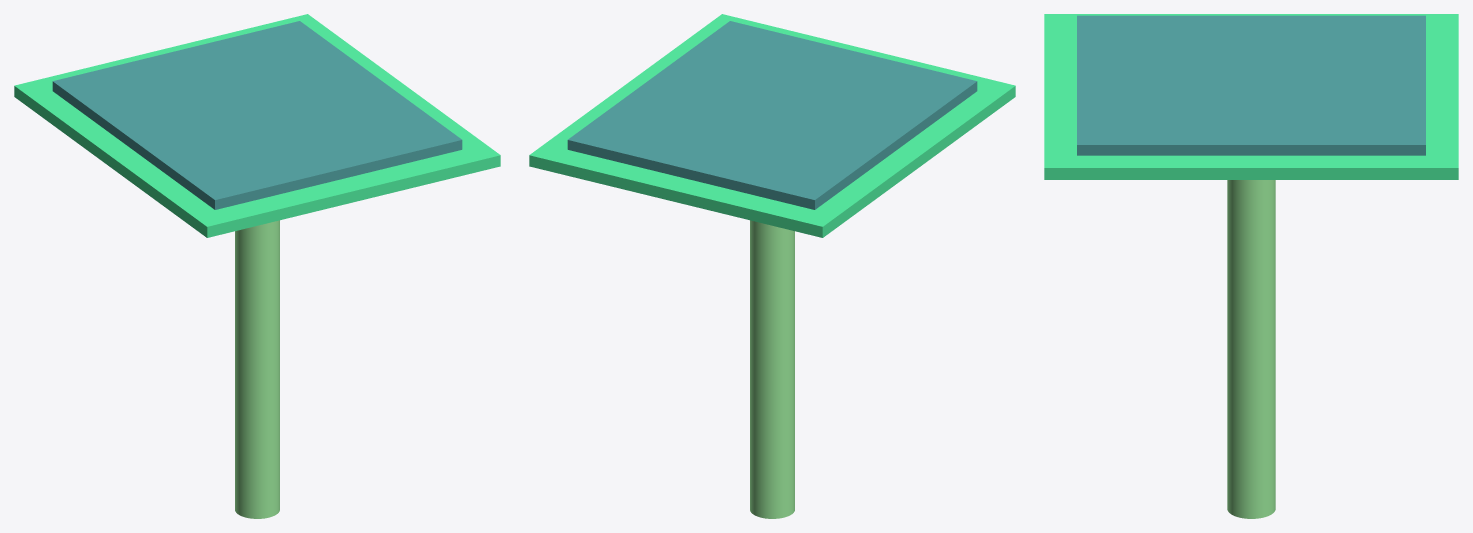
Rendered from Elevator.fbx.
The picture shows the model from 3 angles, left to right: view 1: azimuth 30°, elevation 25°; view 2: azimuth 150°, elevation 25°; view 3: azimuth 270°, elevation 25°; orthographic projection. The views are drawn at different scales.
Visible parts, largest first — view 1: Cube.010; view 2: Cube.010; view 3: Cube.010.
Part boxes in pixels (<box>): Cube.010: <box>14,14,500,518</box>; Cube.010: <box>529,14,1015,518</box>; Cube.010: <box>1044,14,1458,518</box>.
Size of the model in its own units: 158 by 205 by 179.
